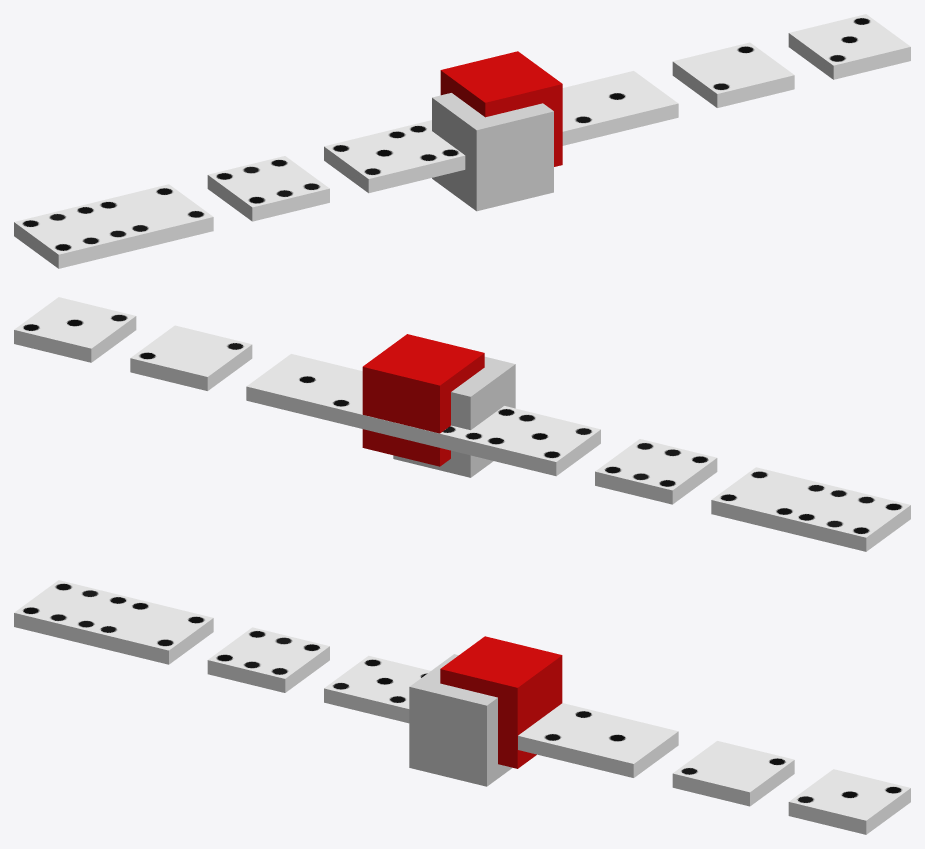
3 renders of one model, top to bottom at view 1: azimuth 30°, elevation 25°; view 2: azimuth 150°, elevation 25°; view 3: azimuth 330°, elevation 25°, orthographic.
Parts seen in each view (by area): view 1: Cube, Dom.202, Cube.001, Dom.111, Dom.101, Dom.303, Dom.212, Dom.010, Dom.202_low_2; view 2: Cube.001, Dom.202, Dom.111, Dom.101, Dom.303, Dom.212, Dom.010, Cube, Dom.202_low_2, Dom.000; view 3: Dom.202, Cube, Cube.001, Dom.010, Dom.111, Dom.101, Dom.303, Dom.212, Dom.202_low_2.
Boxes of the visible parts, x1,y1,x2,y2 form: Cube: (432, 93, 553, 211); Dom.202: (14, 184, 213, 268); Cube.001: (440, 51, 562, 166); Dom.111: (788, 14, 910, 79); Dom.101: (672, 42, 794, 107); Dom.303: (207, 156, 329, 221); Dom.212: (324, 127, 445, 193); Dom.010: (562, 71, 678, 136); Dom.202_low_2: (401, 94, 600, 174); Cube.001: (362, 334, 484, 466); Dom.202: (711, 467, 910, 551); Dom.111: (14, 297, 136, 362); Dom.101: (130, 325, 252, 390); Dom.303: (595, 439, 717, 504); Dom.212: (479, 410, 600, 476); Dom.010: (246, 354, 362, 419); Cube: (393, 356, 515, 477); Dom.202_low_2: (324, 377, 523, 457); Dom.000: (362, 415, 445, 445); Dom.202: (14, 580, 213, 664); Cube: (409, 654, 512, 786); Cube.001: (440, 636, 562, 768); Dom.010: (556, 712, 678, 777); Dom.111: (788, 769, 910, 834); Dom.101: (672, 741, 794, 806); Dom.303: (207, 627, 329, 692); Dom.212: (324, 655, 430, 721); Dom.202_low_2: (401, 702, 600, 758).
Size of the model in its own units: 22 by 2.36 by 2.5.
Materials: 8 (6 with a texture image).
